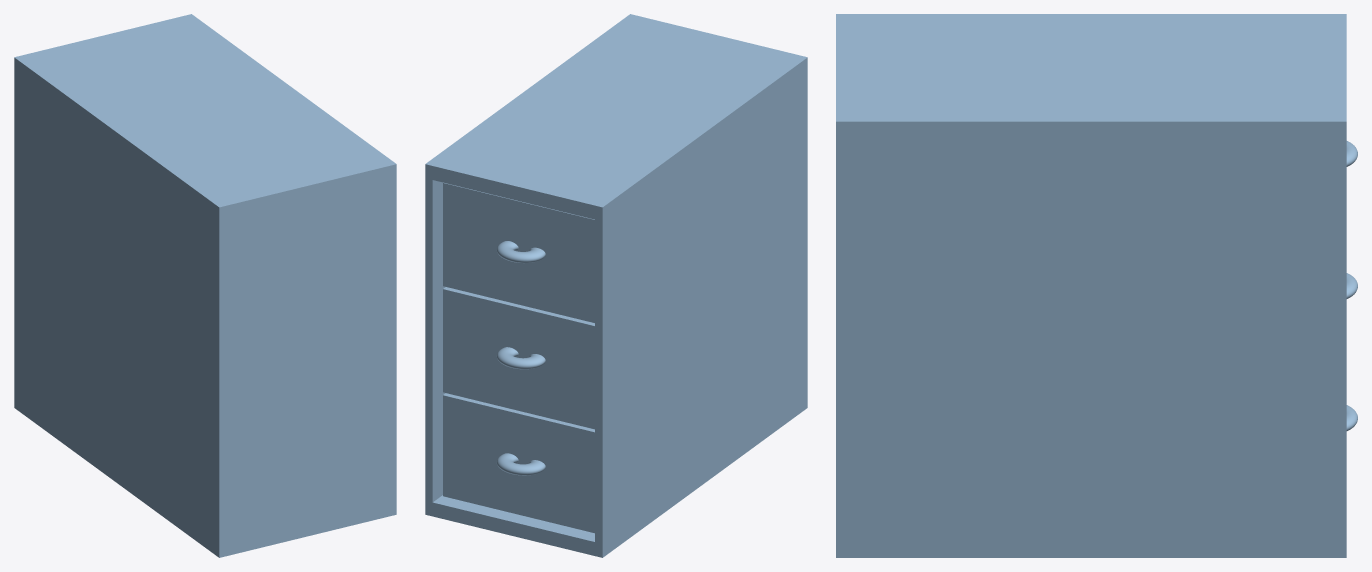
The model's file is DrawerAp1.fbx.
The picture shows the model from 3 angles, left to right: view 1: azimuth 30°, elevation 25°; view 2: azimuth 150°, elevation 25°; view 3: azimuth 270°, elevation 25°; orthographic projection. The views are drawn at different scales.
Parts seen in each view (by area): view 1: pCube13; view 2: pCube13, pCube7, pCube12, pCube6, pTorus4, pTorus2, pTorus1; view 3: pCube13.
Part boxes in pixels (<box>): pCube13: <box>14,14,396,557</box>; pCube13: <box>425,14,807,557</box>; pCube7: <box>443,287,594,429</box>; pCube12: <box>443,393,594,533</box>; pCube6: <box>443,182,594,322</box>; pTorus4: <box>496,453,545,475</box>; pTorus2: <box>496,347,545,369</box>; pTorus1: <box>496,241,545,262</box>; pCube13: <box>836,14,1346,557</box>.
Bounding box in the file's own units: 7.33 × 13.84 × 15.
